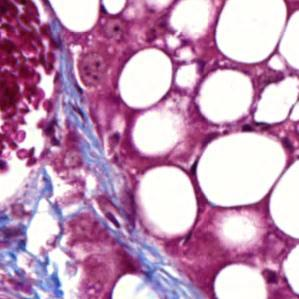steatosis: (192, 132, 289, 208), (115, 43, 177, 110)
